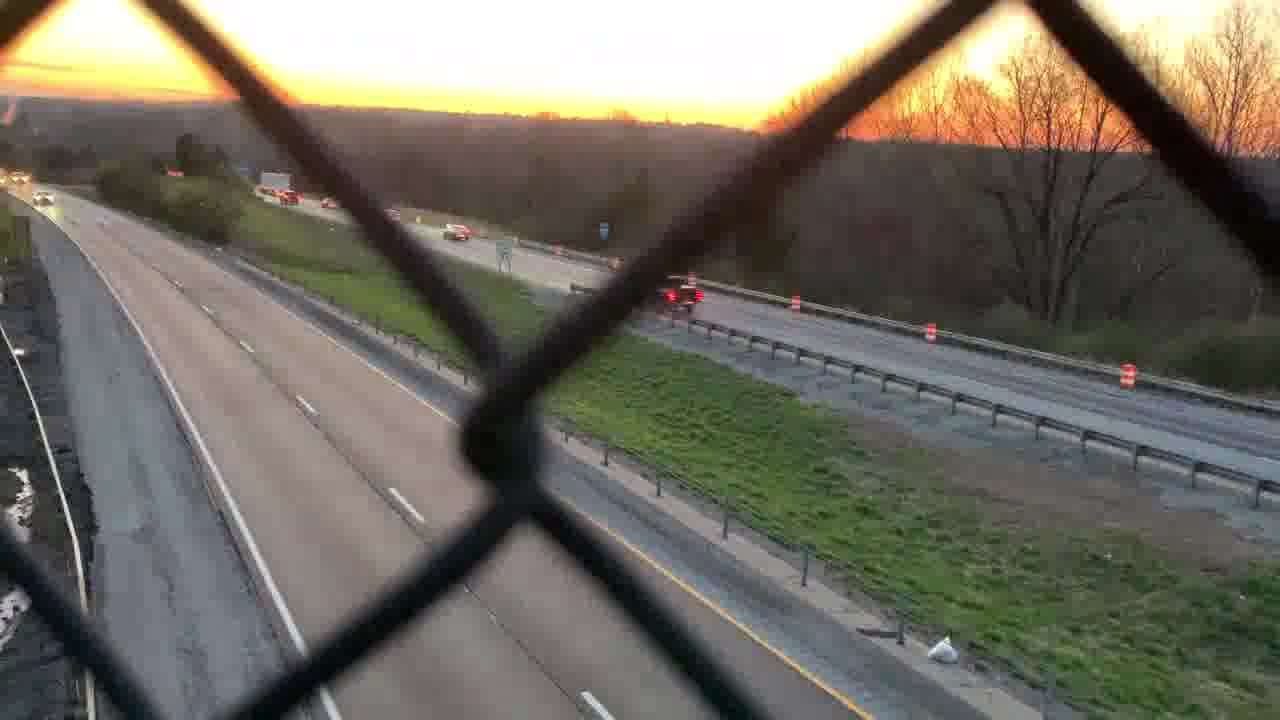heavyTruck: (255, 172, 295, 188)
lightTruck: (649, 267, 700, 310)
smallCar: (441, 221, 472, 240)
vehicle: (29, 193, 62, 208), (319, 191, 337, 214), (9, 165, 29, 185), (277, 191, 300, 204)
